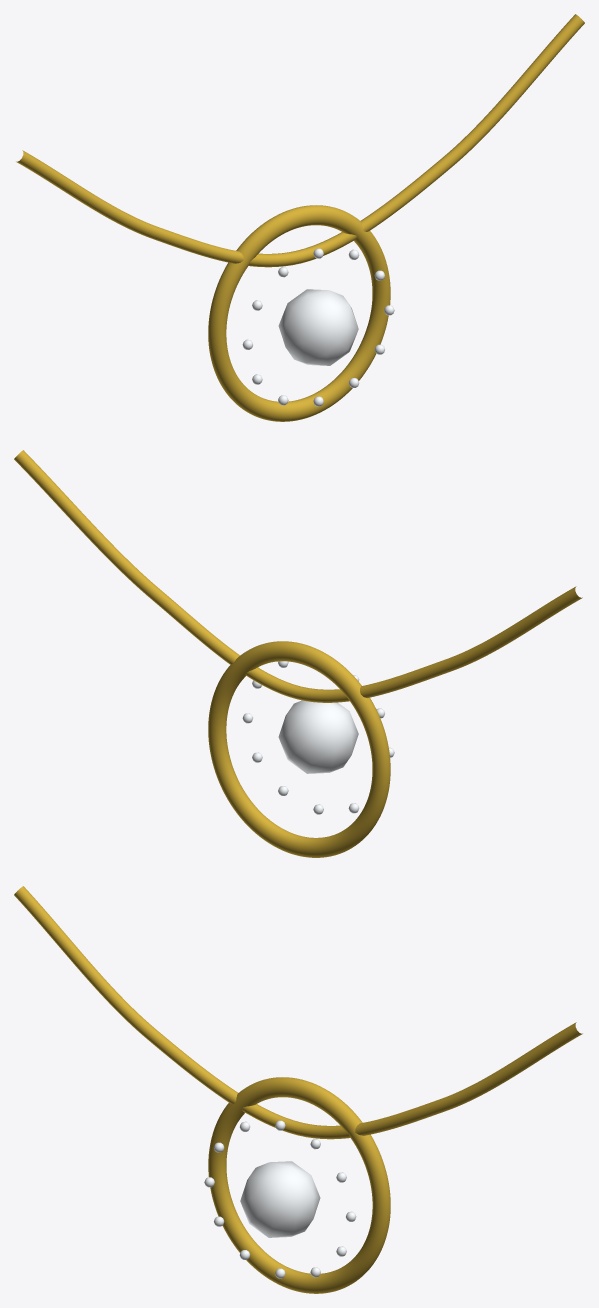
File: petite-diamond-nose-pin.glb
3 renders of one model, top to bottom at view 1: azimuth 30°, elevation 25°; view 2: azimuth 150°, elevation 25°; view 3: azimuth 330°, elevation 25°, orthographic.
Visible parts, largest first — view 1: pendant_frame, chain, pendant_gem; view 2: pendant_frame, chain, pendant_gem; view 3: pendant_frame, chain, pendant_gem.
Part boxes in pixels (<box>): pendant_frame: <box>208,205,390,421</box>; chain: <box>16,14,584,267</box>; pendant_gem: <box>278,289,358,365</box>; pendant_frame: <box>208,641,390,857</box>; chain: <box>14,450,582,702</box>; pendant_gem: <box>278,700,358,773</box>; pendant_frame: <box>208,1077,390,1293</box>; chain: <box>14,886,582,1139</box>; pendant_gem: <box>240,1161,320,1237</box>.
Bounding box in the file's own units: 2.73 × 1.55 × 0.366.
